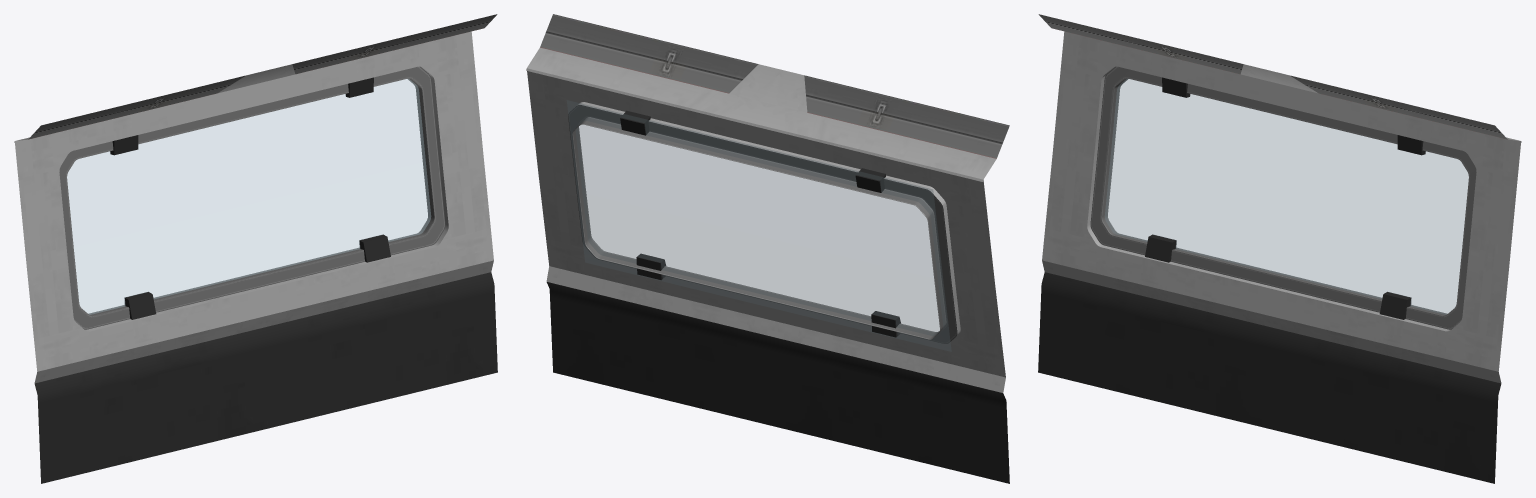
The model's file is sf_wall_astra_window.glb.
The picture shows the model from 3 angles, left to right: view 1: azimuth 30°, elevation 25°; view 2: azimuth 150°, elevation 25°; view 3: azimuth 330°, elevation 25°; orthographic projection.
Visible parts, largest first — view 1: WallAstra_Straight_Window; view 2: WallAstra_Straight_Window; view 3: WallAstra_Straight_Window.
Part boxes in pixels (x1=…): WallAstra_Straight_Window: x1=14, y1=14, x2=497, y2=483; WallAstra_Straight_Window: x1=526, y1=14, x2=1009, y2=483; WallAstra_Straight_Window: x1=1038, y1=14, x2=1521, y2=483.
Bounding box in the file's own units: 4 × 3 × 0.4975.
4 materials, 3 textured.
